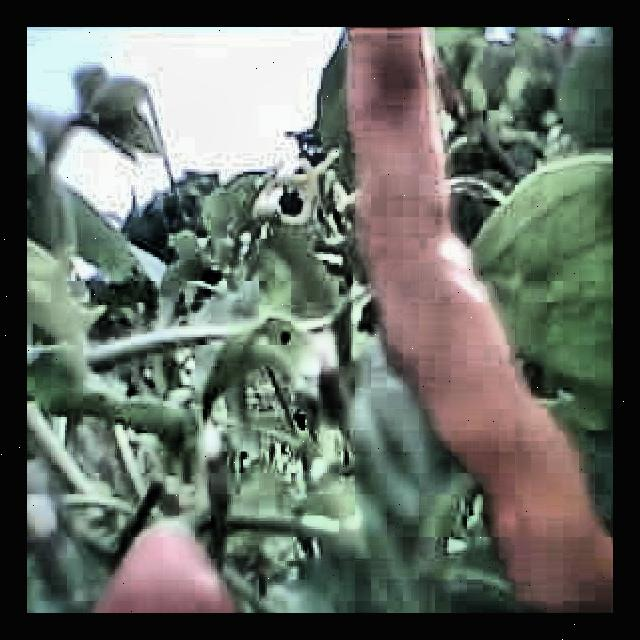Cabai: (340, 27, 613, 610), (63, 510, 244, 613)
